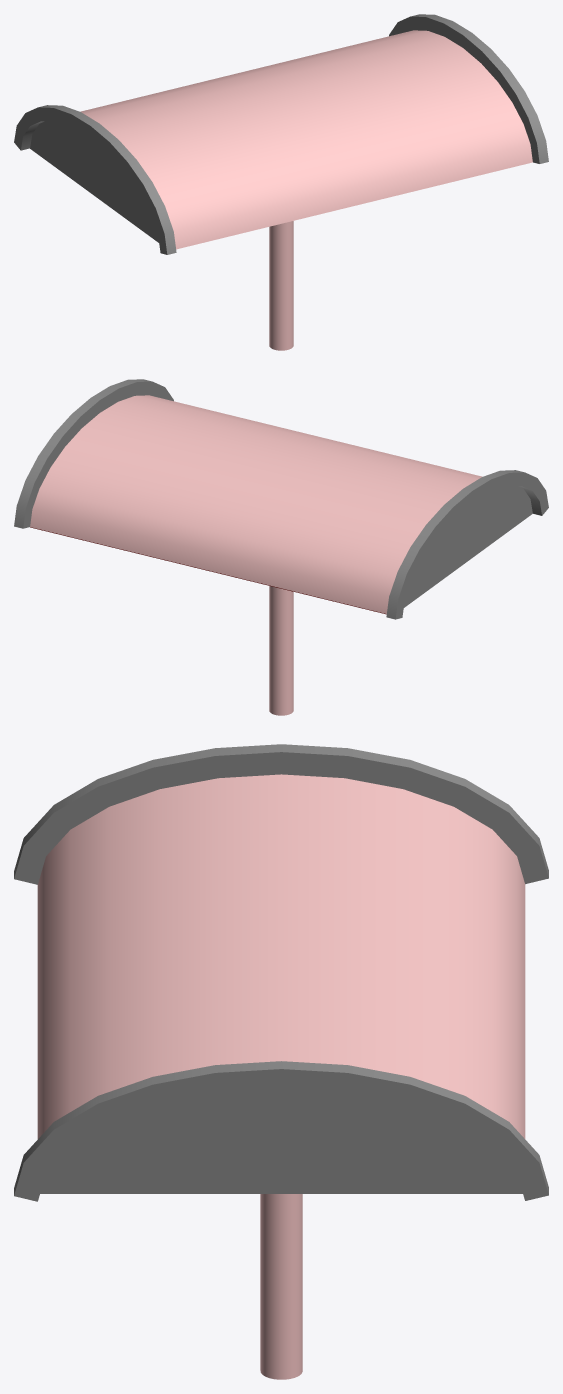
Rendered from StationRuff.fbx.
3 renders of one model, top to bottom at view 1: azimuth 30°, elevation 25°; view 2: azimuth 150°, elevation 25°; view 3: azimuth 270°, elevation 25°, orthographic. The views are drawn at different scales.
Parts seen in each view (by area): view 1: Group1, Group2; view 2: Group1, Group2; view 3: Group1, Group2.
Boxes of the visible parts, x1,y1,x2,y2 form: Group1: (80,30,532,350); Group2: (14,14,548,254); Group1: (30,395,482,715); Group2: (14,379,548,619); Group1: (37,774,525,1379); Group2: (14,744,548,1201).
Bounding box in the file's own units: 6.31 × 4.2 × 4.39.
